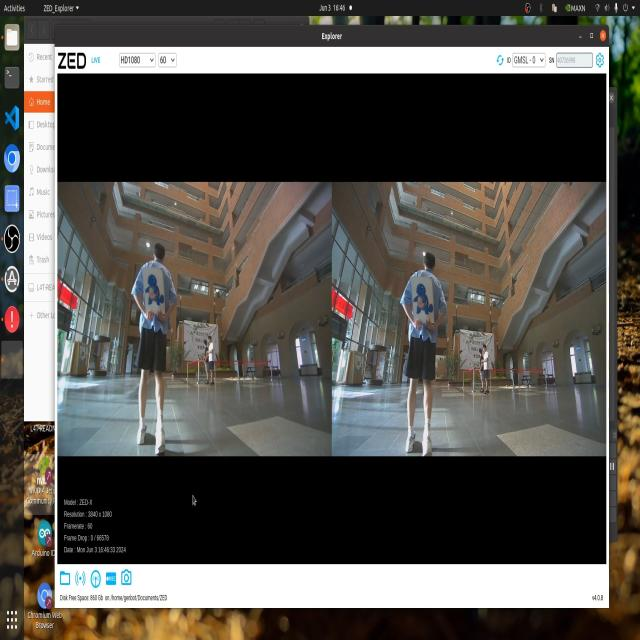blue: (406, 278, 435, 324), (150, 278, 168, 310)
